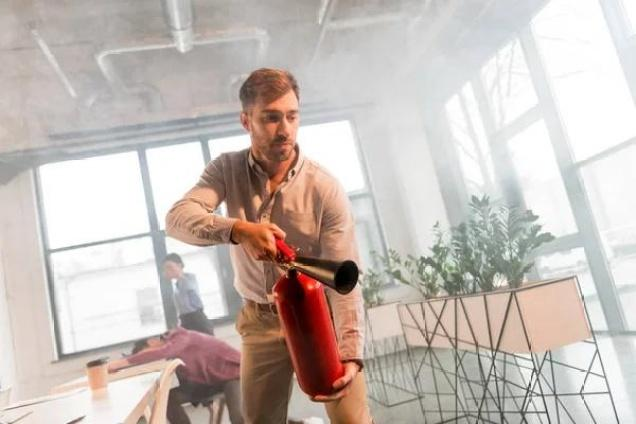APAR: (273, 235, 342, 396)
